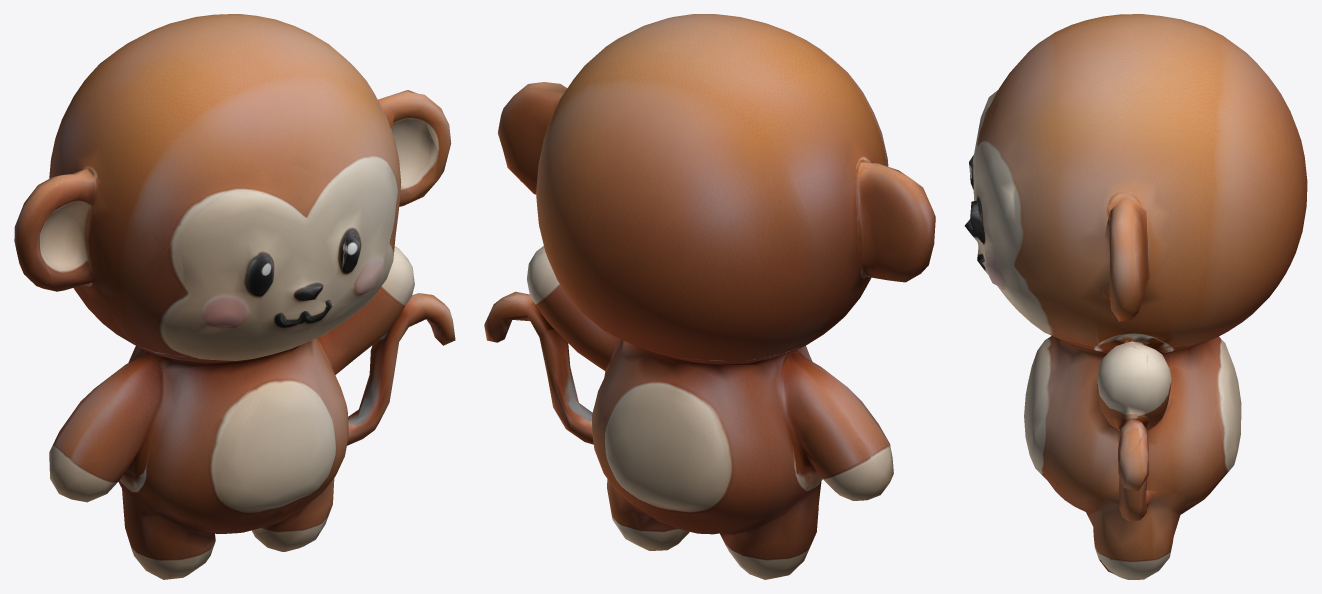
The model's file is monkey.glb.
The picture shows the model from 3 angles, left to right: view 1: azimuth 30°, elevation 25°; view 2: azimuth 150°, elevation 25°; view 3: azimuth 270°, elevation 25°; orthographic projection. The views are drawn at different scales.
Parts seen in each view (by area): view 1: material_0; view 2: material_0; view 3: material_0.
Part boxes in pixels (left/top/right/bottom): material_0: left=14, top=14, right=455, bottom=579; material_0: left=484, top=14, right=935, bottom=579; material_0: left=964, top=14, right=1307, bottom=579.
Bounding box in the file's own units: 0.866 × 0.9966 × 0.6001.
1 material, 1 textured.
